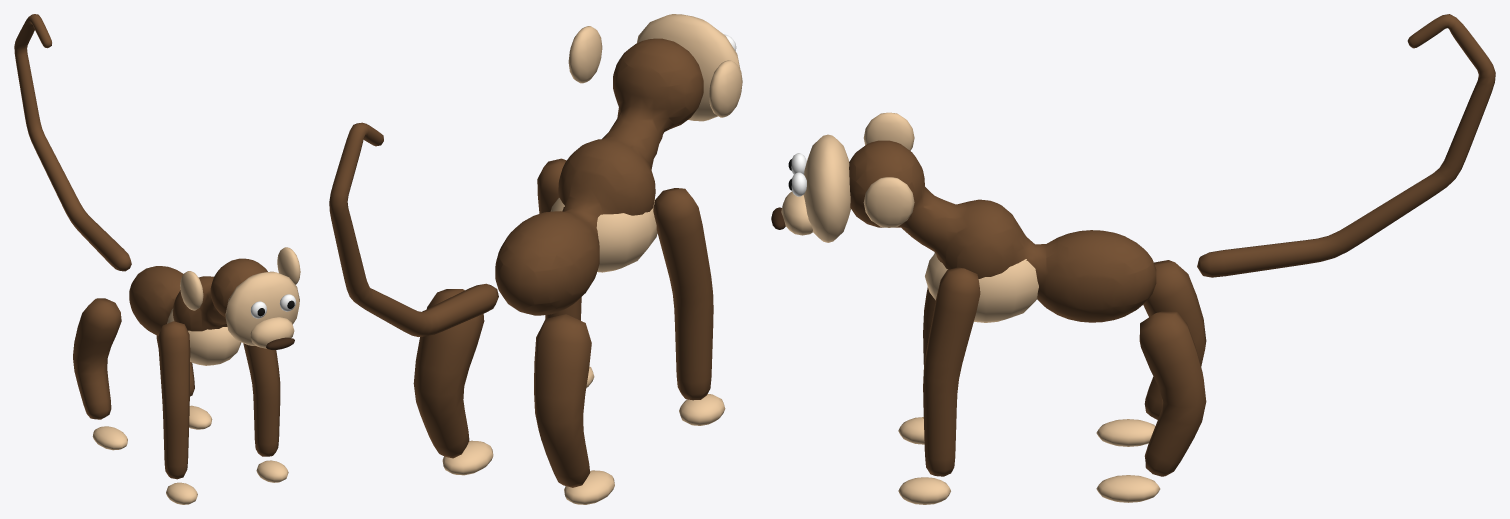
The model's file is monkey.glb.
3 renders of one model, left to right at view 1: azimuth 30°, elevation 25°; view 2: azimuth 150°, elevation 25°; view 3: azimuth 270°, elevation 25°, orthographic. The views are drawn at different scales.
Parts seen in each view (by area): view 1: Body, Tail, ArmR, LegR, Sphere, ArmL, Sphere.002, Sphere.001, Sphere.009, Sphere.013, Sphere.008, Sphere.012 (+2 smaller); view 2: Body, ArmR, LegR, Tail, LegL, Sphere, Sphere.002, Sphere.008, Sphere.009, ArmL, Sphere.013, Sphere.011 (+1 smaller); view 3: Body, Tail, ArmL, LegL, Sphere, Sphere.002, LegR, Sphere.008, Sphere.011, Sphere.013, Sphere.009, Sphere.010 (+1 smaller).
Part boxes in pixels (<box>): Body: <box>129,258,267,335</box>; Tail: <box>14,14,131,271</box>; ArmR: <box>158,321,190,479</box>; LegR: <box>73,298,121,419</box>; Sphere: <box>225,271,299,345</box>; ArmL: <box>243,343,280,456</box>; Sphere.002: <box>167,308,241,365</box>; Sphere.001: <box>250,317,294,348</box>; Sphere.009: <box>180,271,203,310</box>; Sphere.013: <box>92,426,127,450</box>; Sphere.008: <box>277,247,300,284</box>; Sphere.012: <box>166,482,197,504</box>; Body: <box>495,38,703,315</box>; ArmR: <box>653,188,713,400</box>; LegR: <box>534,314,591,487</box>; Tail: <box>329,122,498,336</box>; LegL: <box>413,289,484,458</box>; Sphere: <box>636,14,740,121</box>; Sphere.002: <box>551,198,657,272</box>; Sphere.008: <box>568,26,602,83</box>; Sphere.009: <box>709,60,742,117</box>; ArmL: <box>537,158,581,320</box>; Sphere.013: <box>564,470,614,504</box>; Sphere.011: <box>442,440,493,475</box>; Body: <box>849,140,1156,322</box>; Tail: <box>1197,14,1495,277</box>; ArmL: <box>923,267,980,476</box>; LegL: <box>1139,311,1206,476</box>; Sphere: <box>803,134,850,242</box>; Sphere.002: <box>925,253,1038,322</box>; LegR: <box>1143,260,1206,419</box>; Sphere.008: <box>863,177,914,227</box>; Sphere.011: <box>1096,475,1160,502</box>; Sphere.013: <box>1096,419,1155,446</box>; Sphere.009: <box>863,112,914,150</box>; Sphere.010: <box>898,477,950,504</box>.
Bounding box in the file's own units: 0.36 × 0.9912 × 1.42.
